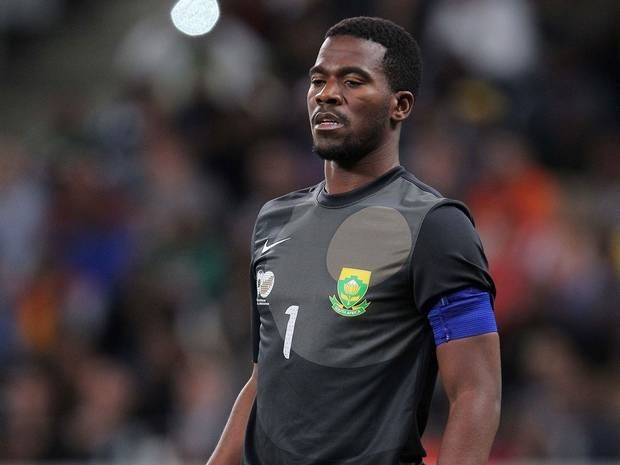face_no_mask: (308, 17, 418, 161)
